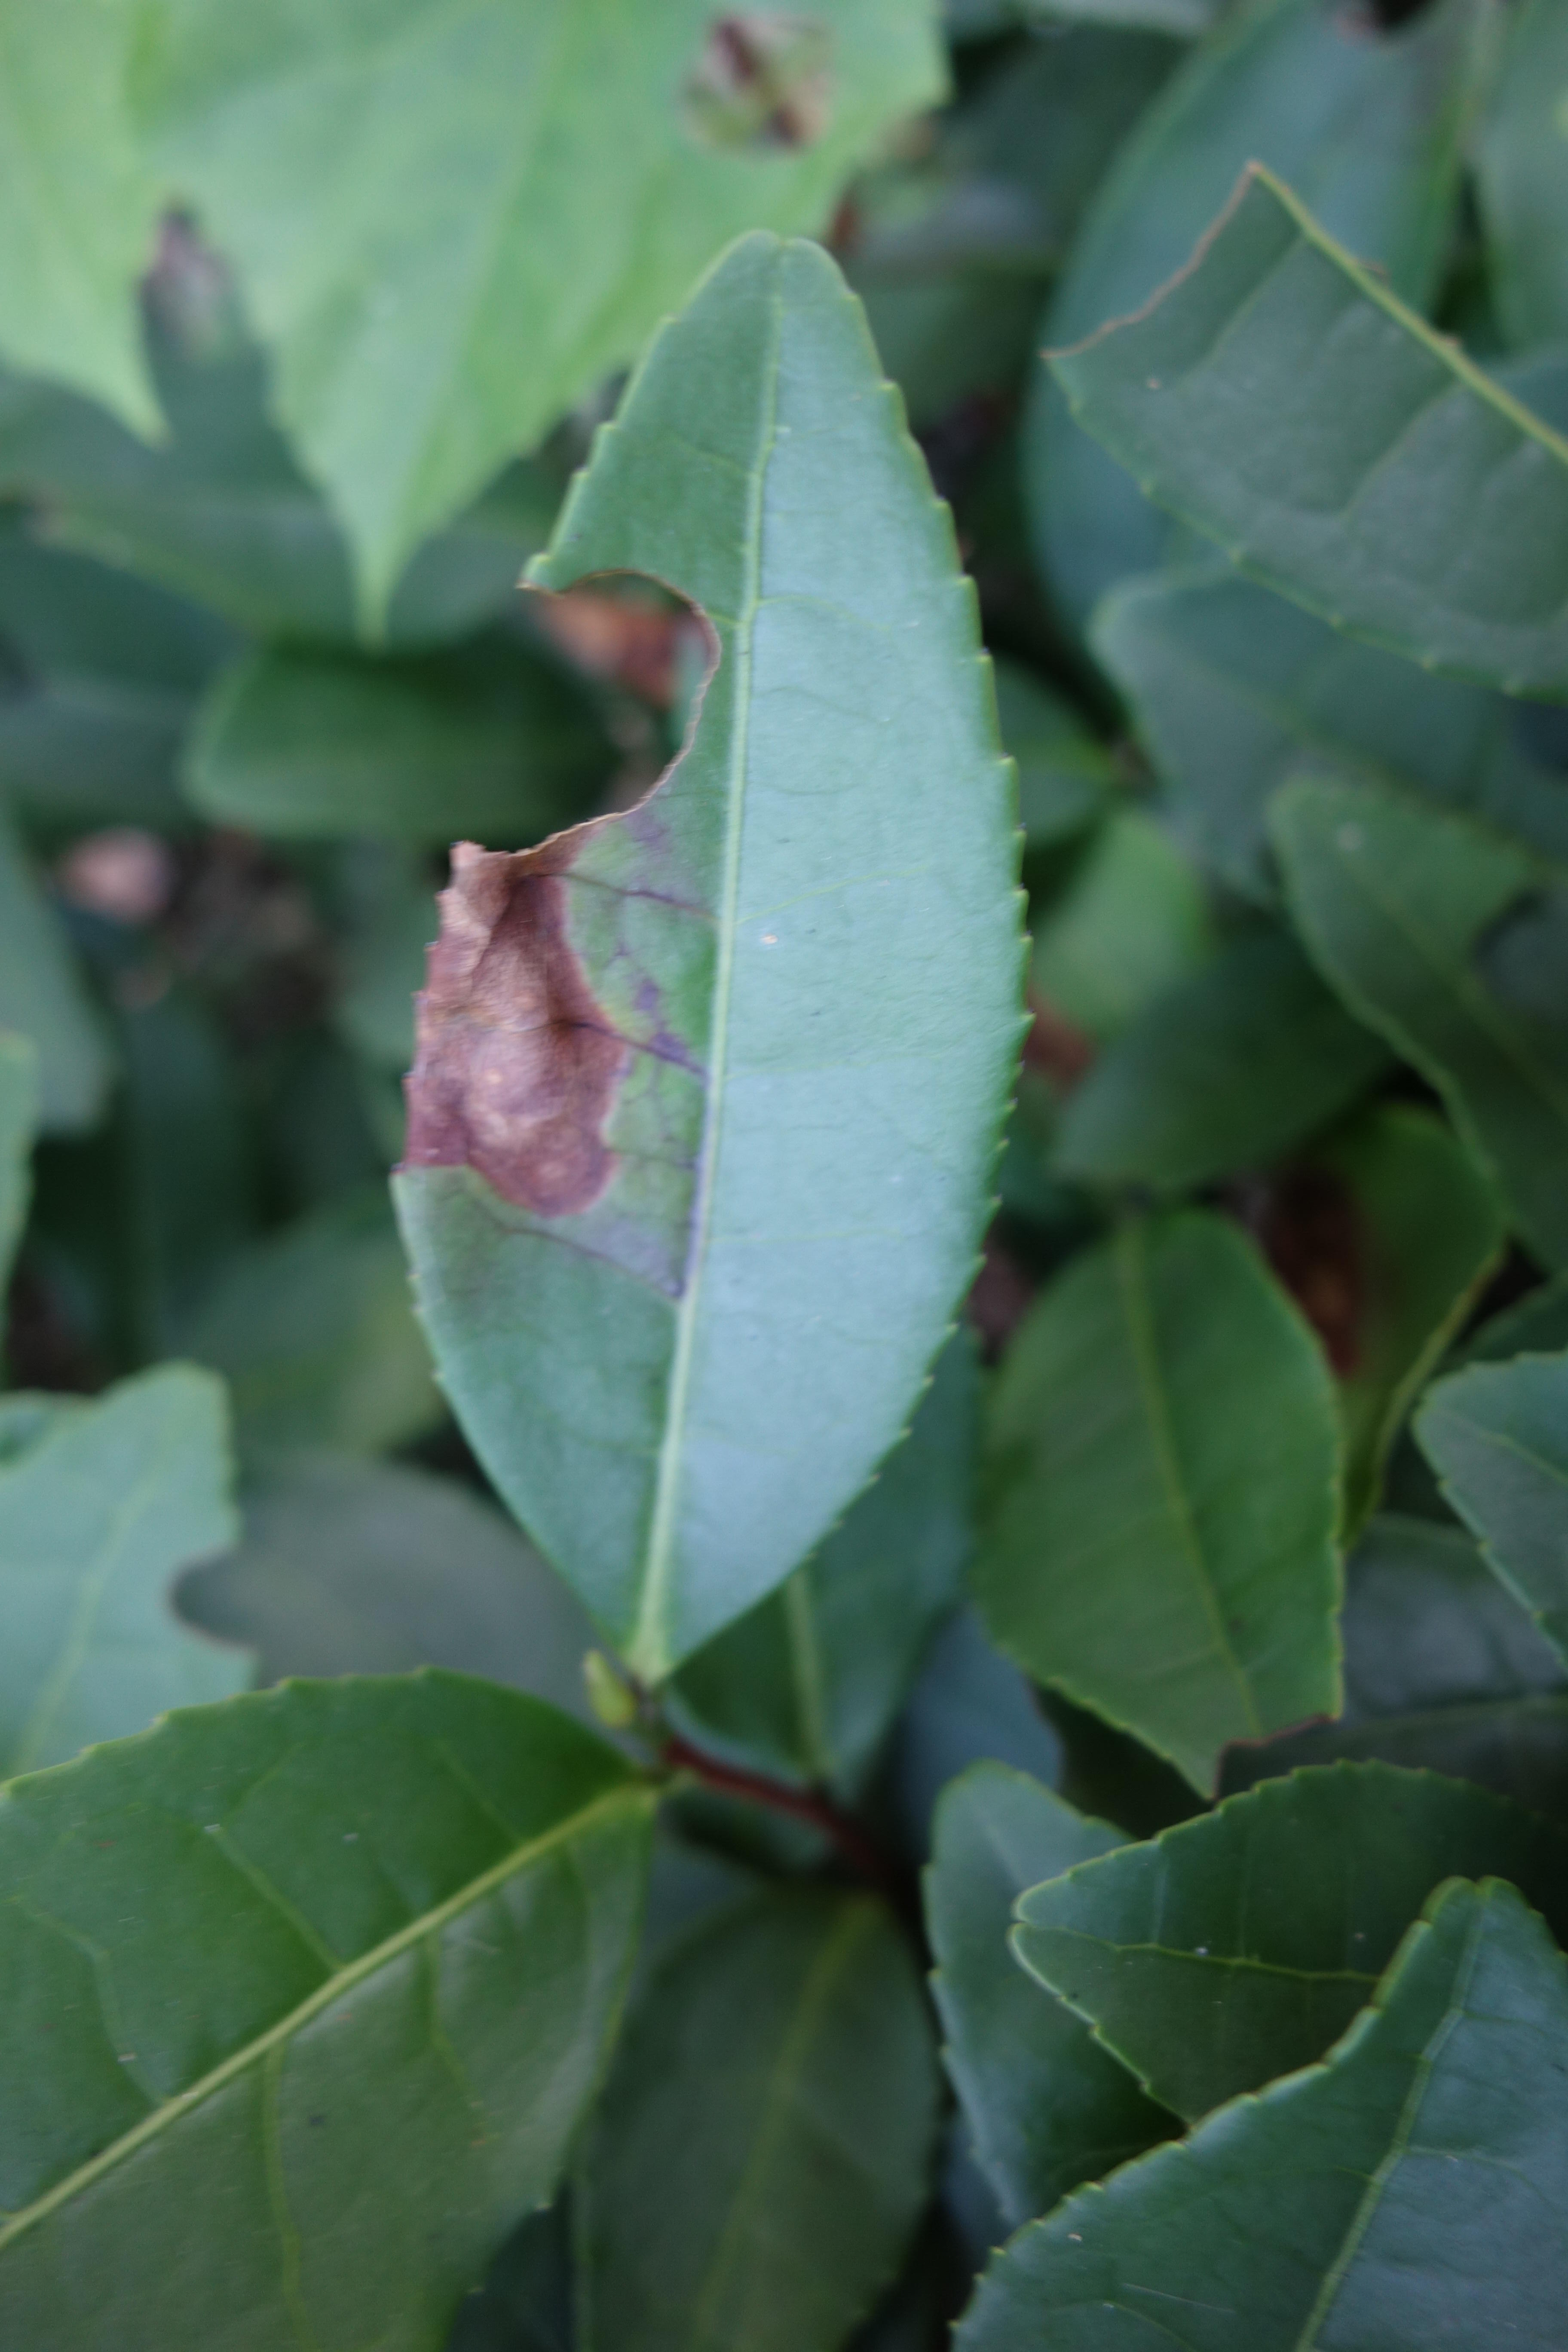tanju_high: (392, 231, 1041, 1689)
